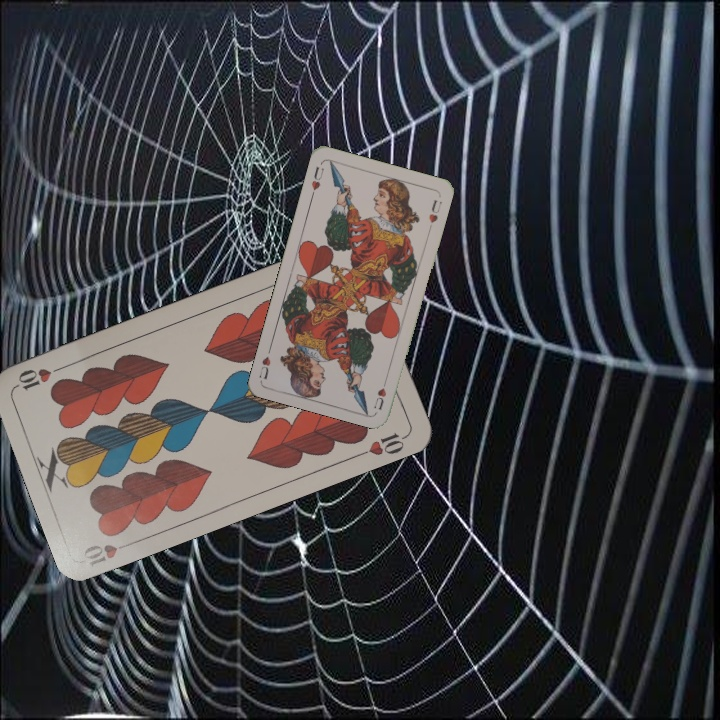H10: (79, 537, 138, 569)
HU: (370, 374, 390, 413), (307, 162, 327, 200)
